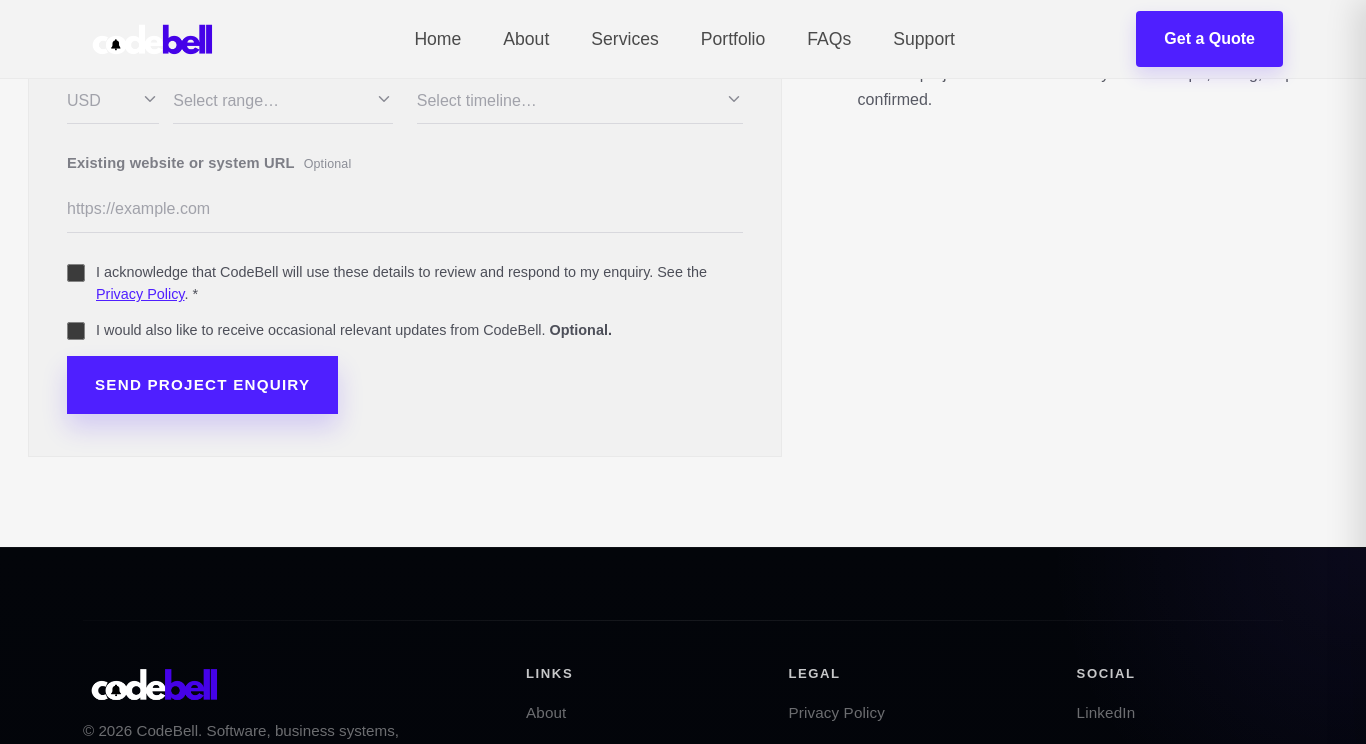
Scenario: Contact lead form › shows accessible validation errors and privacy notice
The image size is (1366, 744).
(page scrolled)
Expected: the text "use these details to review and respond" is shown, 96,264 -> 707,280
Step 1. Click the button "SEND PROJECT ENQUIRY" → (203, 385), box 67,356 -> 338,414
(page scrolled)
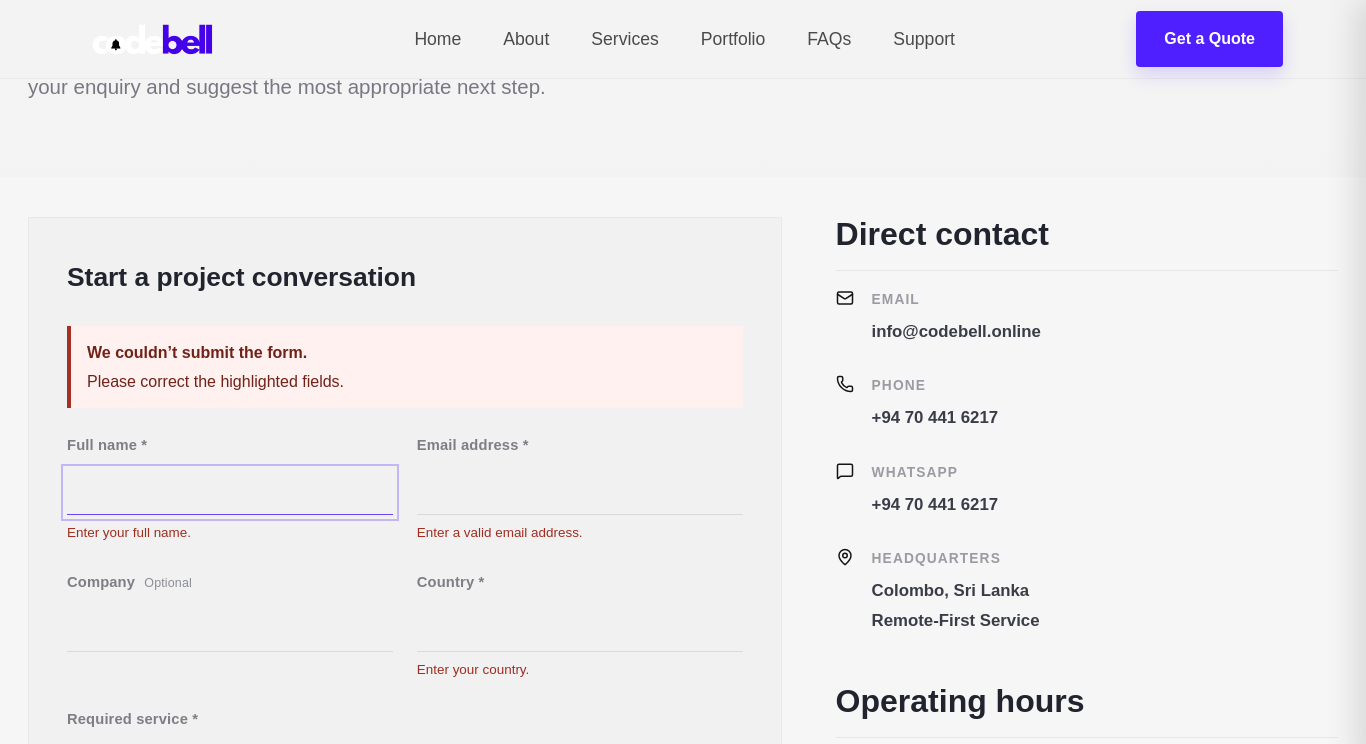
Result: the text "Enter your full name." is shown at 67,525 -> 191,540
